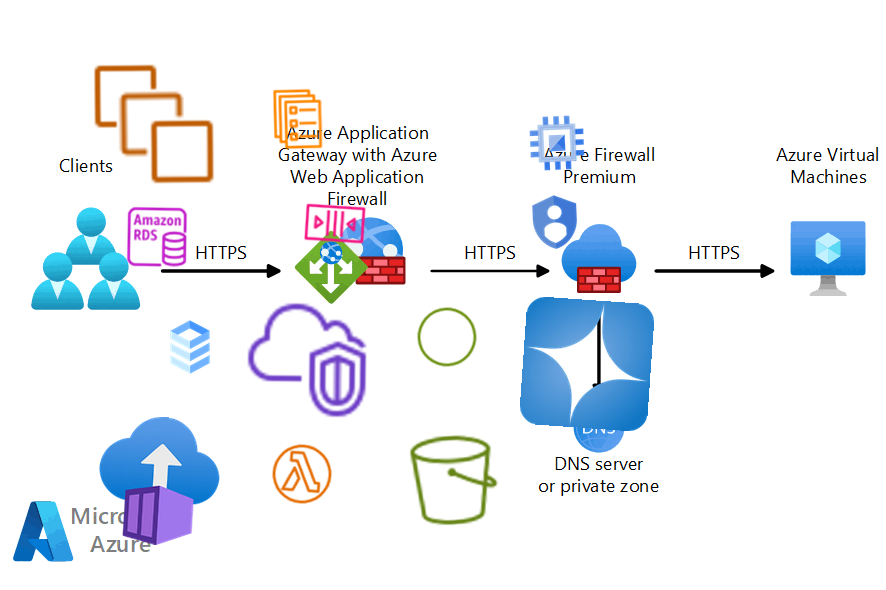aws_aurora_amazon_rds_instance: (124, 204, 190, 270)
aws_ec2_instances: (89, 59, 219, 189)
aws_elastic_container_service_service: (265, 86, 331, 152)
aws_lambda_lambda_function: (267, 439, 337, 509)
aws_simple_queue_service_queue: (300, 188, 370, 258)
aws_simple_storage_service_object: (413, 303, 481, 371)
aws_simple_storage_service_s3_standard: (403, 429, 505, 531)
aws_vpc_virtual_private_cloud_vpc: (242, 295, 372, 425)
azure_container_instances: (91, 413, 227, 549)
azure_openai: (518, 295, 656, 433)
gcp_cloud_sql: (157, 314, 223, 380)
gcp_compute_engine: (523, 109, 591, 177)
gcp_identity_and_access_management: (521, 188, 589, 256)
